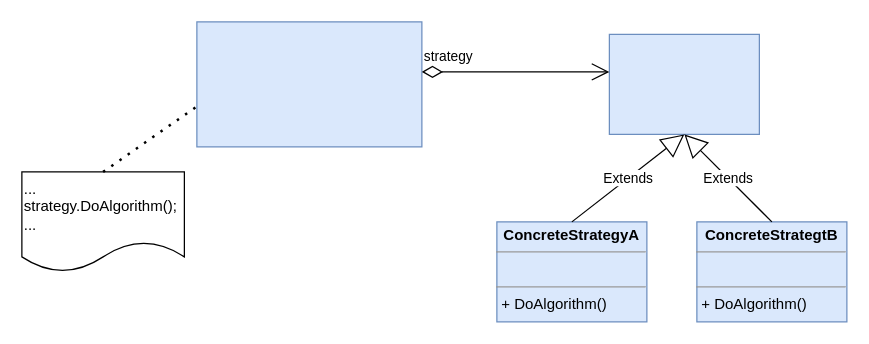
Image size: 869x344. Some labels were removed from this diagram. Each missing label, with the centre of its shape:
Context - strategy: Strategy + SetStrategy(Strategy strategy) + DoSomething(): point 309,84
Strategy + DoAlgorithm(): point 683,83
